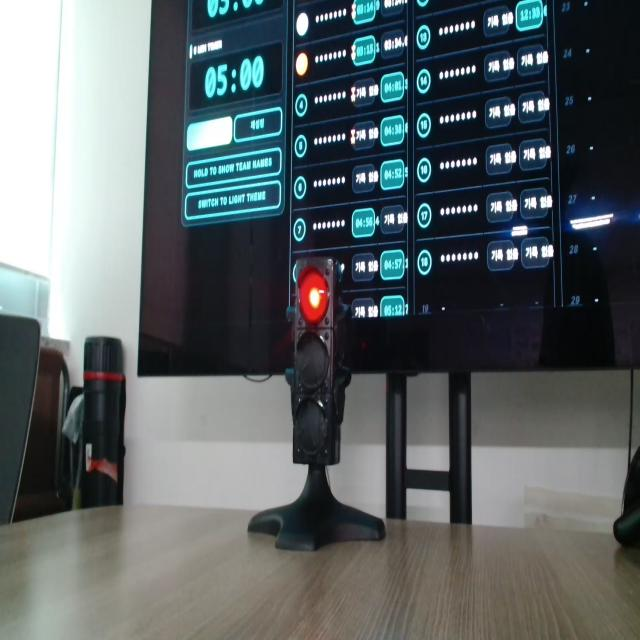red_light: (299, 268, 328, 324)
